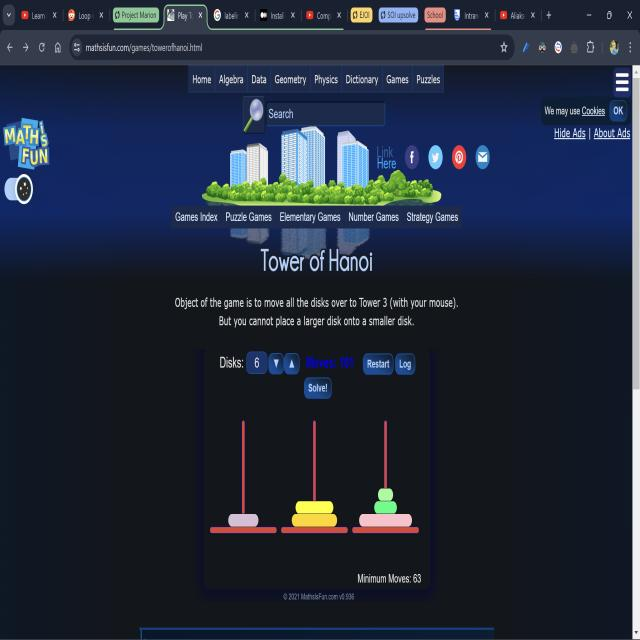disk1: (378, 488, 393, 501)
disk2: (374, 501, 397, 514)
disk3: (228, 514, 258, 527)
disk4: (296, 501, 333, 514)
disk5: (292, 514, 337, 526)
disk6: (359, 514, 412, 526)
